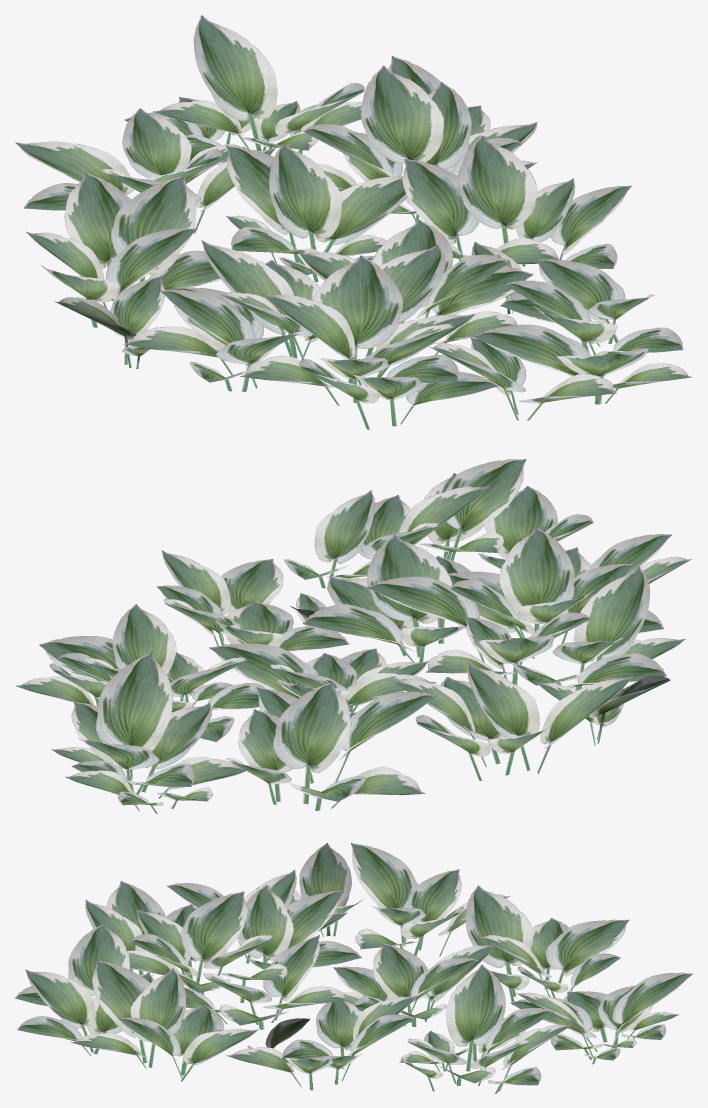
The model's file is cluster_plant_small_wg_04.fbx.
3 renders of one model, top to bottom at view 1: azimuth 30°, elevation 25°; view 2: azimuth 150°, elevation 25°; view 3: azimuth 270°, elevation 25°, orthographic. The views are drawn at different scales.
Parts seen in each view (by area): view 1: cluster_plant_small_wg_04; view 2: cluster_plant_small_wg_04; view 3: cluster_plant_small_wg_04.
Boxes of the visible parts, x1,y1,x2,y2 form: cluster_plant_small_wg_04: (15,15,692,429); cluster_plant_small_wg_04: (15,459,691,813); cluster_plant_small_wg_04: (15,843,692,1093).
Bounding box in the file's own units: 375 × 64.13 × 498.
